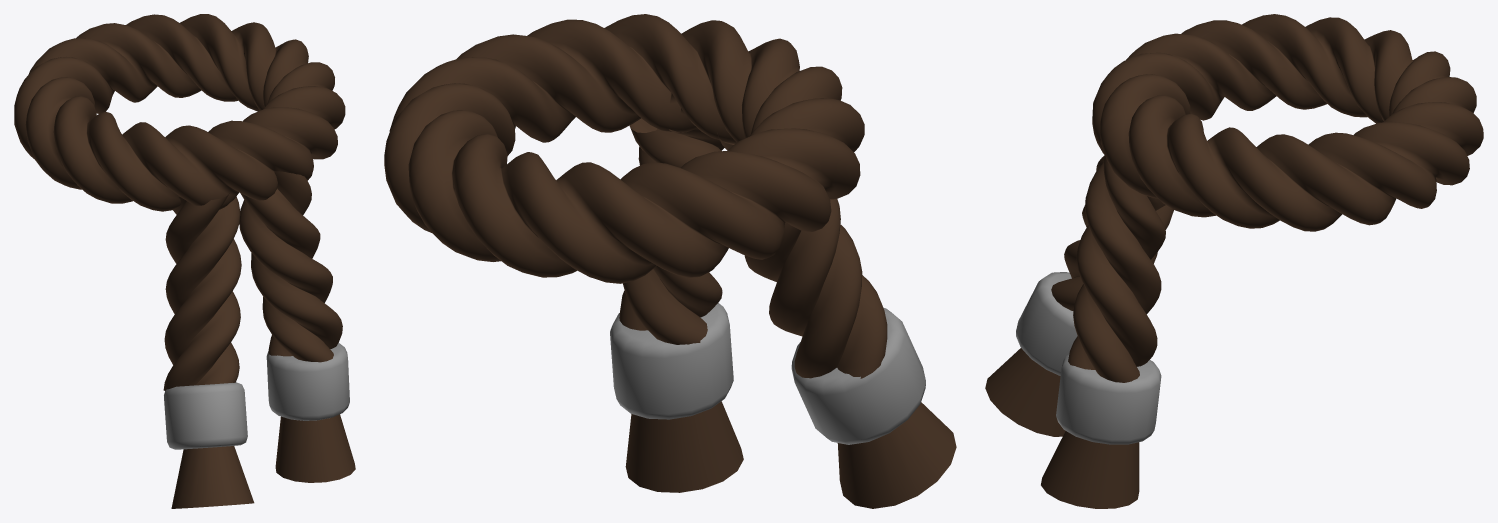
The model's file is ceinture.fbx.
The picture shows the model from 3 angles, left to right: view 1: azimuth 30°, elevation 25°; view 2: azimuth 150°, elevation 25°; view 3: azimuth 270°, elevation 25°; orthographic projection. The views are drawn at different scales.
Visible parts, largest first — view 1: Cylinder.002, Cylinder.001, Cylinder.003, Cylinder, Cylinder.004, Cylinder.007, Cylinder.005; view 2: Cylinder.002, Cylinder.001, Cylinder.004, Cylinder, Cylinder.003, Cylinder.007, Cylinder.005; view 3: Cylinder.002, Cylinder.003, Cylinder.004, Cylinder.007, Cylinder.005, Cylinder, Cylinder.001.
Boxes of the visible parts, x1=… form: Cylinder.002: x1=14, y1=14, x2=345, y2=211; Cylinder.001: x1=163, y1=193, x2=241, y2=390; Cylinder.003: x1=239, y1=171, x2=342, y2=362; Cylinder: x1=164, y1=382, x2=247, y2=449; Cylinder.004: x1=266, y1=343, x2=349, y2=420; Cylinder.007: x1=275, y1=414, x2=355, y2=482; Cylinder.005: x1=171, y1=446, x2=254, y2=508; Cylinder.002: x1=384, y1=14, x2=864, y2=283; Cylinder.001: x1=717, y1=133, x2=887, y2=378; Cylinder.004: x1=610, y1=303, x2=733, y2=419; Cylinder: x1=791, y1=308, x2=925, y2=444; Cylinder.003: x1=619, y1=118, x2=724, y2=344; Cylinder.007: x1=625, y1=401, x2=743, y2=492; Cylinder.005: x1=837, y1=402, x2=956, y2=508; Cylinder.002: x1=1092, y1=14, x2=1483, y2=231; Cylinder.003: x1=1068, y1=154, x2=1165, y2=382; Cylinder.004: x1=1056, y1=354, x2=1161, y2=444; Cylinder.007: x1=1041, y1=431, x2=1139, y2=508; Cylinder.005: x1=985, y1=348, x2=1065, y2=436; Cylinder: x1=1016, y1=272, x2=1077, y2=375; Cylinder.001: x1=1051, y1=156, x2=1173, y2=311.
Bounding box in the file's own units: 33.22 × 37.98 × 43.86.
